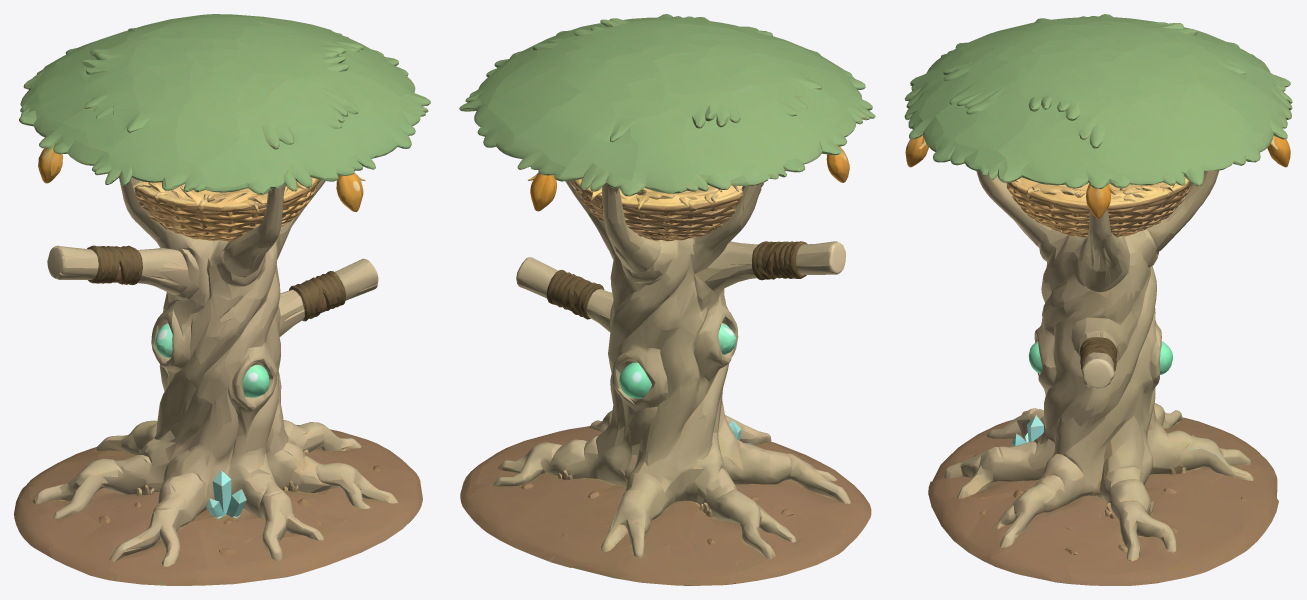
Rendered from birdperch.glb.
3 renders of one model, left to right at view 1: azimuth 30°, elevation 25°; view 2: azimuth 150°, elevation 25°; view 3: azimuth 270°, elevation 25°, orthographic. The views are drawn at different scales.
Size of the model in its own units: 1.59 by 1.9 by 1.49.
1 material, 1 textured.
